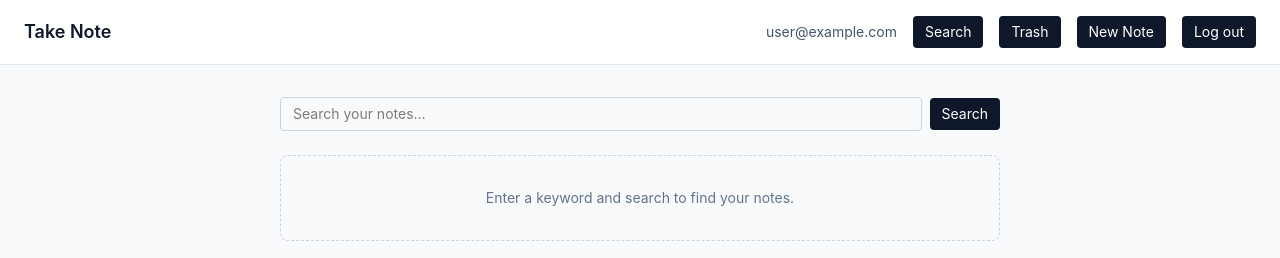
Test: SearchPage › Search returns no matching notes
In the field labelled "Search your notes": (601, 114) [280,97,922,131], type "zzz-no-match-zzz"
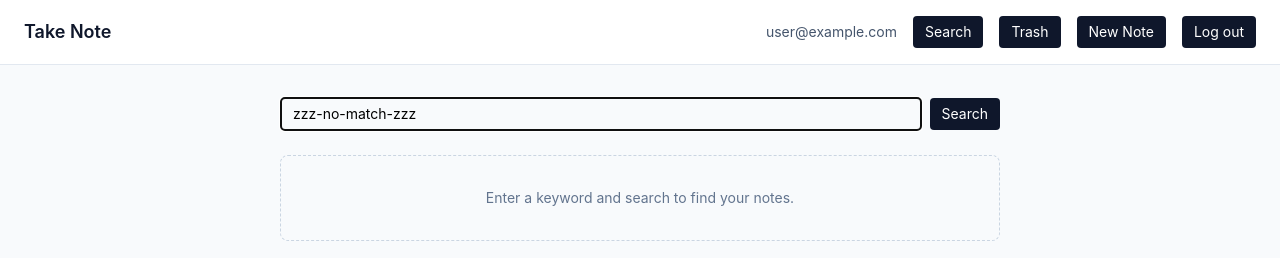
Click the button "Search": (965, 114) [930,98,1000,130]
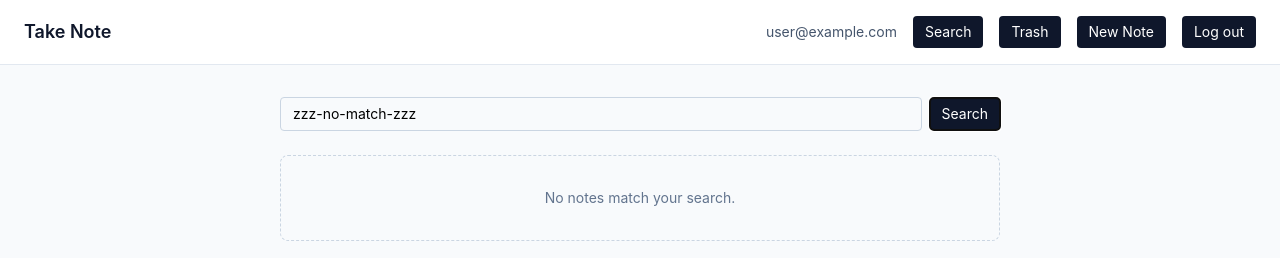
Result: the text "No notes match your search." is shown at [280,155,1000,241]
